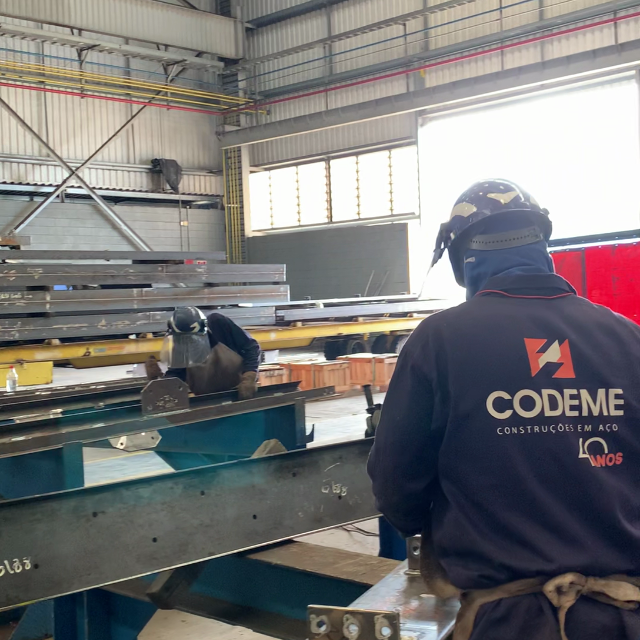face-shield: (416, 246, 464, 296), (155, 335, 213, 369)
glove: (235, 369, 258, 402)
helmet: (446, 183, 551, 249), (165, 305, 210, 334)
person: (367, 178, 640, 639), (158, 304, 261, 402)
